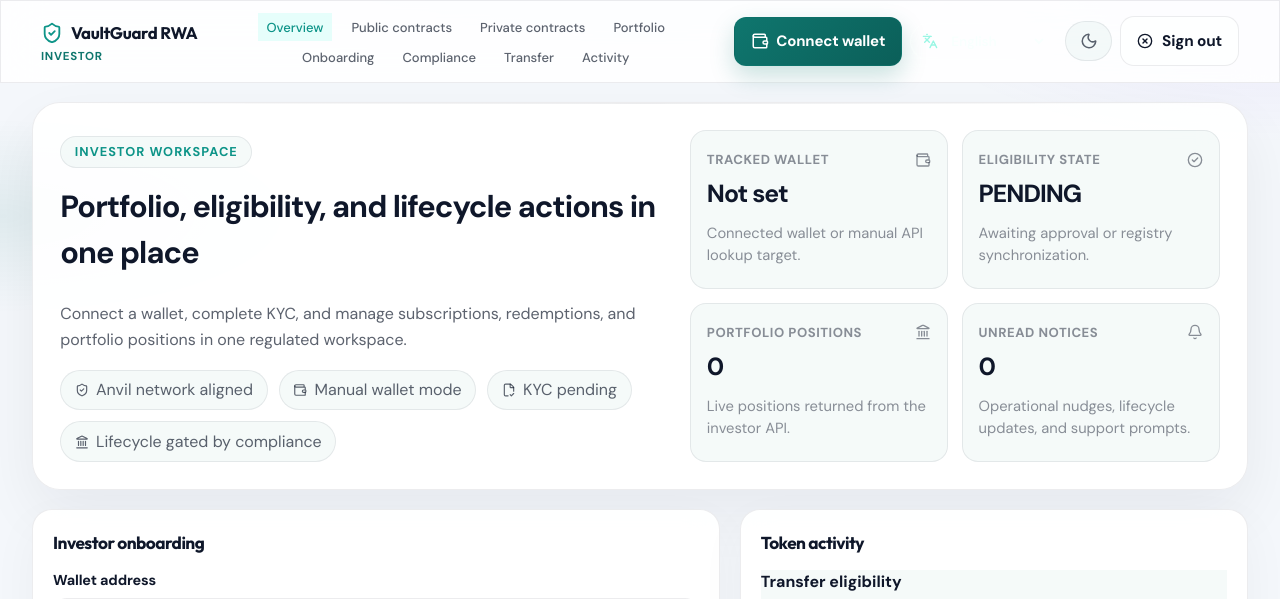
Test: InvestorDashboard › shows a wallet-unavailable error when no injected provider exists
The image size is (1280, 599).
Click the button "Connect wallet" at (818, 41), box [734,17,902,66]
(page scrolled)
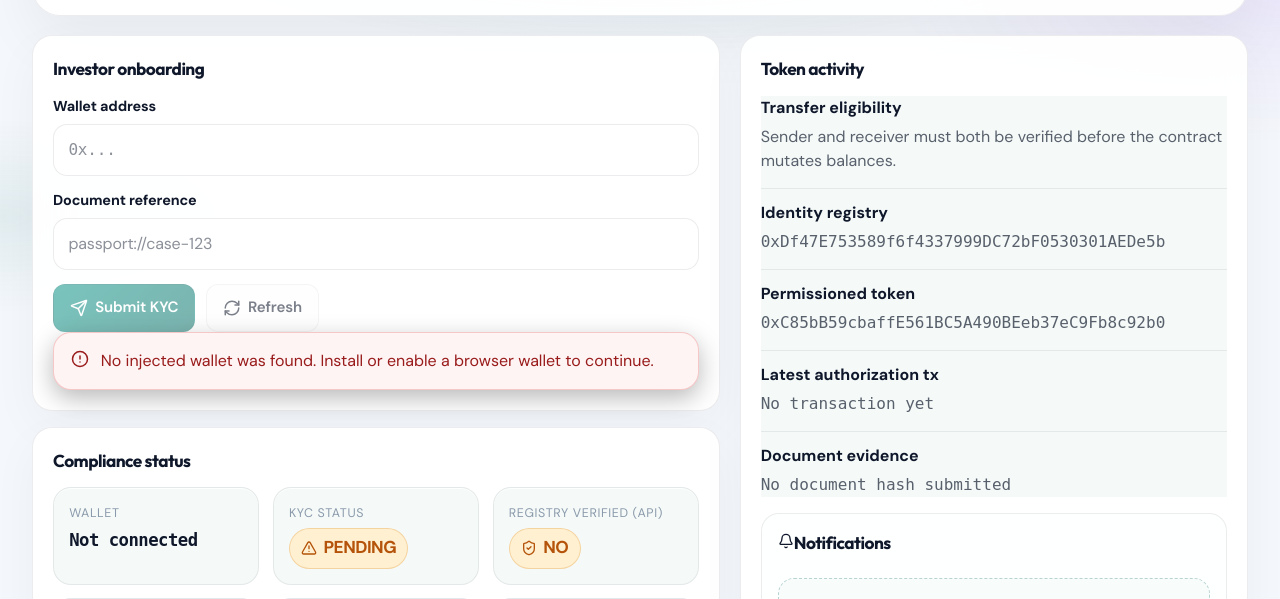
Expected: the text "No injected wallet" is shown, [101,350,654,371]
